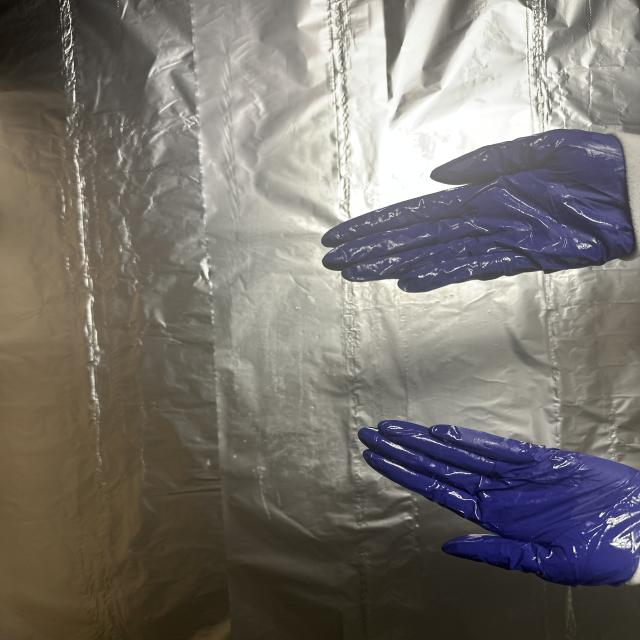gloves_contaminated: (322, 130, 635, 292), (358, 420, 640, 586)
